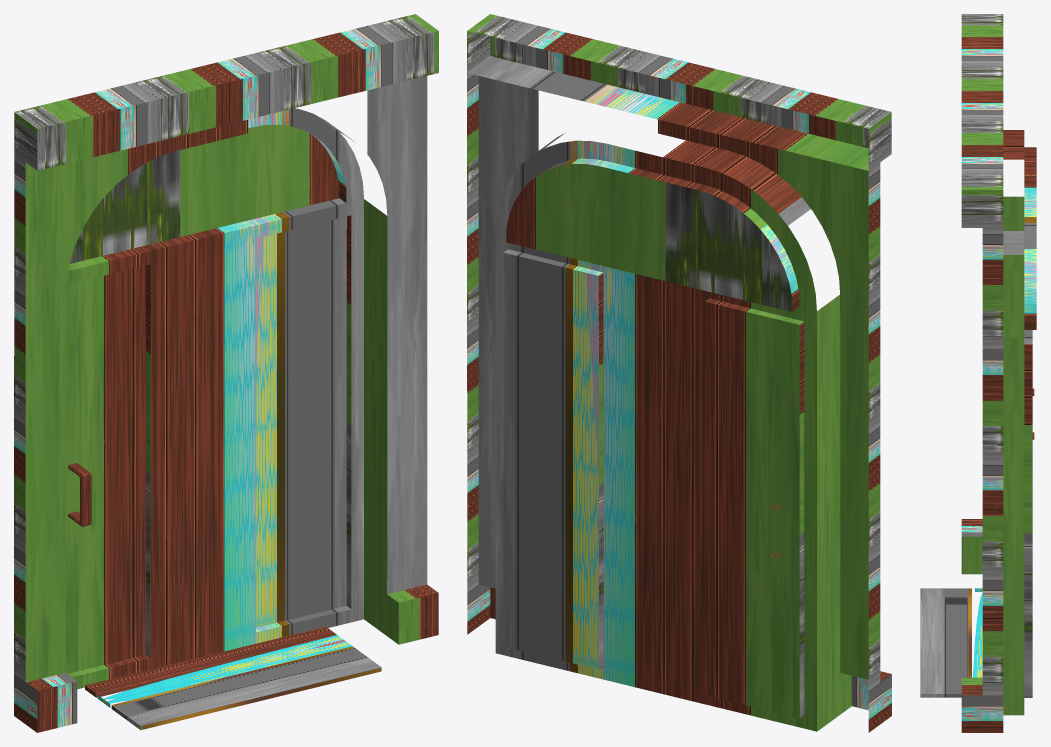
File: Door_Arch.fbx
The picture shows the model from 3 angles, left to right: view 1: azimuth 30°, elevation 25°; view 2: azimuth 150°, elevation 25°; view 3: azimuth 270°, elevation 25°; orthographic projection. The views are drawn at different scales.
Parts seen in each view (by area): view 1: Door_Arch; view 2: Door_Arch; view 3: Door_Arch.
Boxes of the visible parts, x1,y1,x2,y2 form: Door_Arch: [14, 14, 438, 732]; Door_Arch: [467, 14, 891, 732]; Door_Arch: [920, 14, 1036, 732].
Bounding box in the file's own units: 1 × 0.2798 × 1.44.
